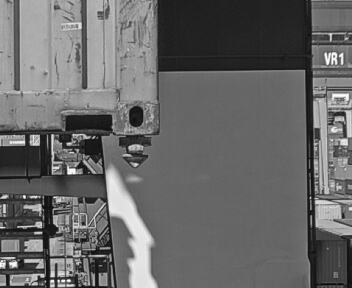twist_lock_2: (99, 129, 141, 174)
